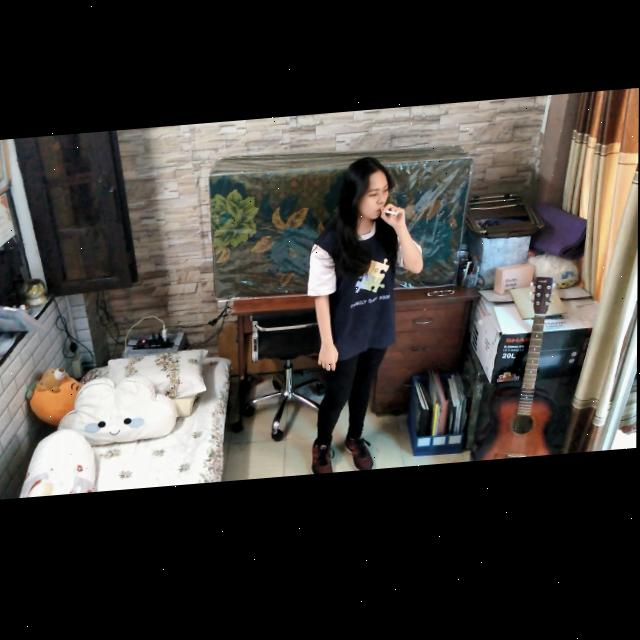cigarette: (382, 215, 398, 223)
